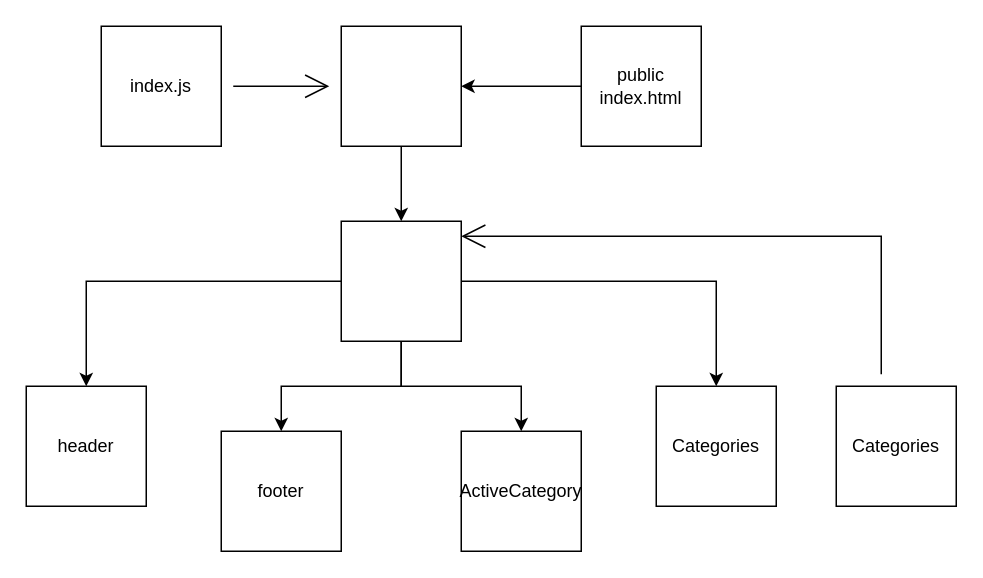
Image size: 983x578. Some labels were removed from this diagram. The shapes that lost their labels are listed below. From the top down, each one's centre as x and y in pixels, then its label:
At (x=400, y=85): "src App.js".
At (x=400, y=280): "components".
